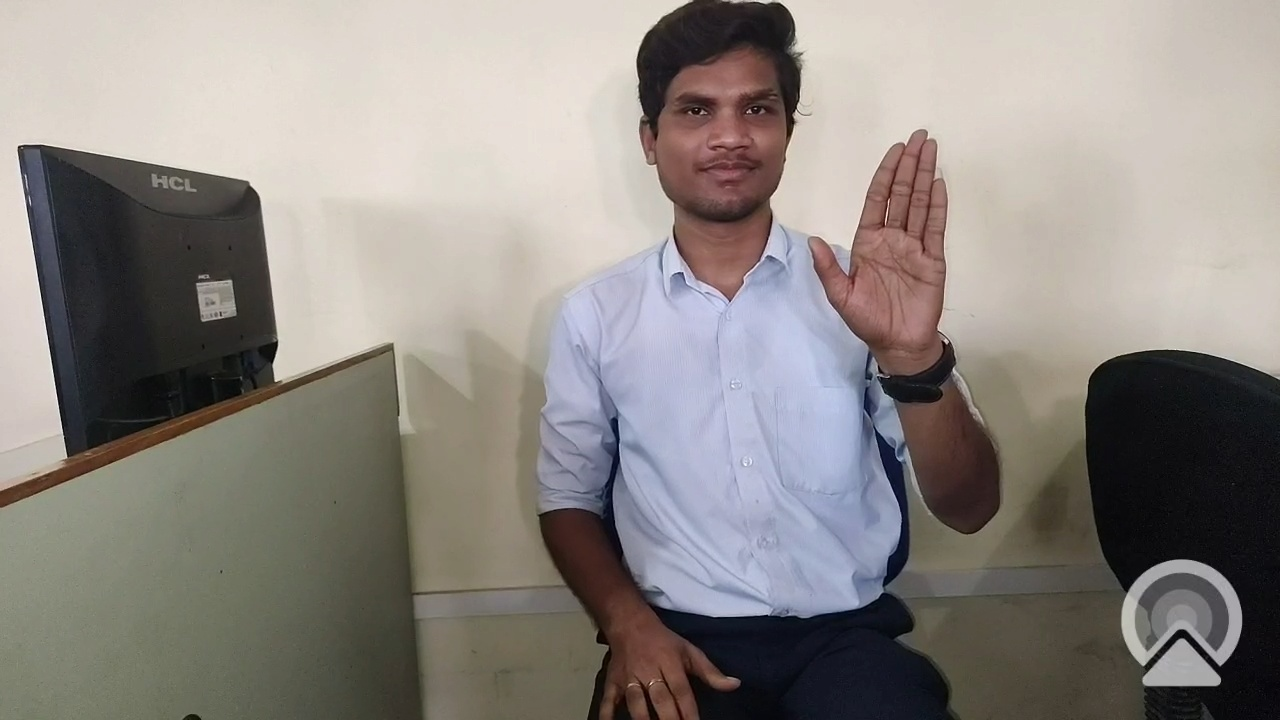Hello: (804, 121, 995, 390)
